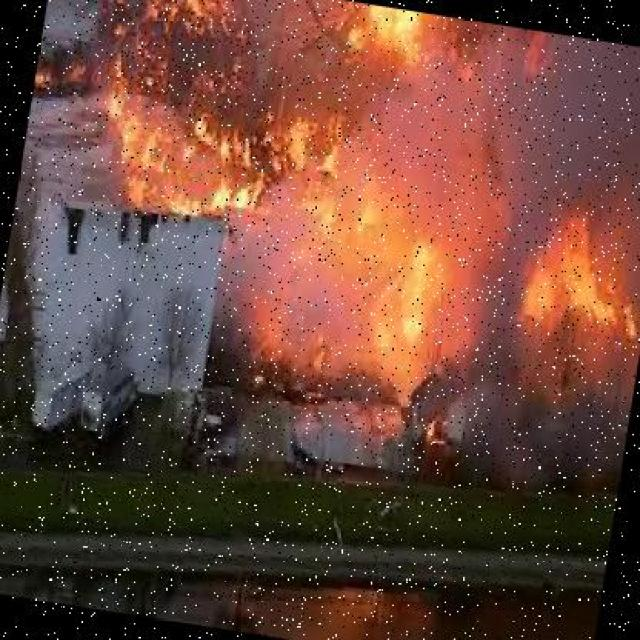fire: (70, 0, 362, 260), (309, 158, 483, 417), (486, 180, 639, 382)
